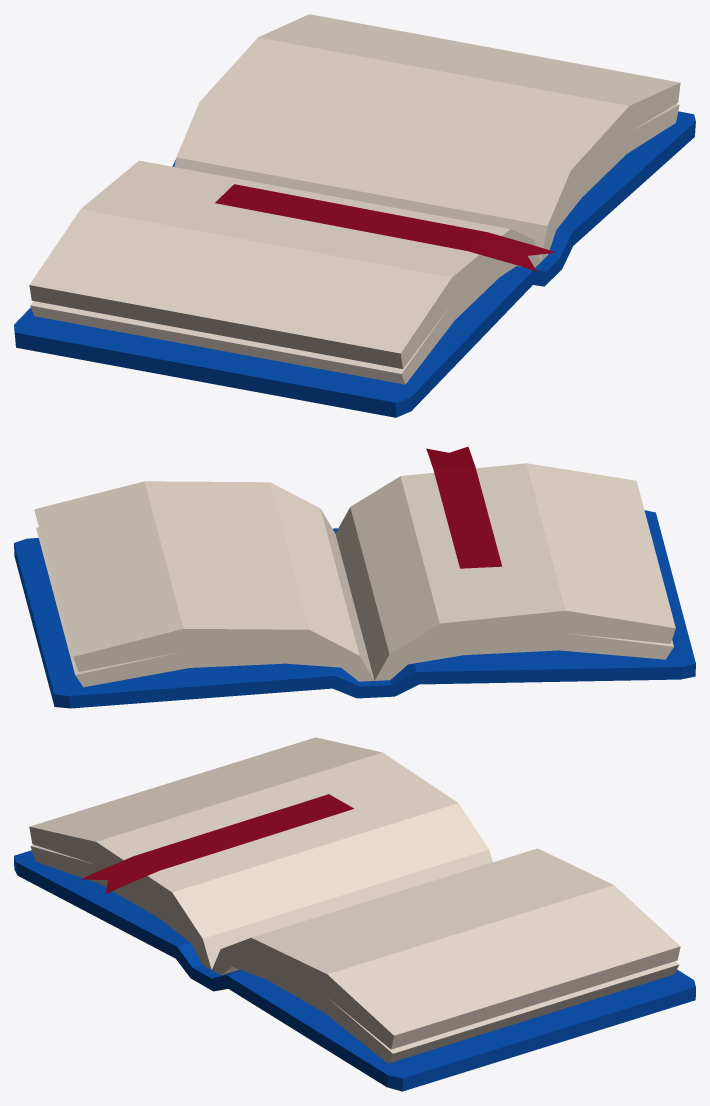
File: Book_Open.fbx
The picture shows the model from 3 angles, top to bottom: view 1: azimuth 30°, elevation 25°; view 2: azimuth 150°, elevation 25°; view 3: azimuth 270°, elevation 25°; orthographic projection. The views are drawn at different scales.
Visible parts, largest first — view 1: book-open; view 2: book-open; view 3: book-open.
Boxes of the visible parts, <box> form: book-open: <box>14,14,695,417</box>; book-open: <box>14,446,695,708</box>; book-open: <box>14,737,695,1091</box>.
Size of the model in its own units: 0.3341 by 0.038 by 0.3065.
